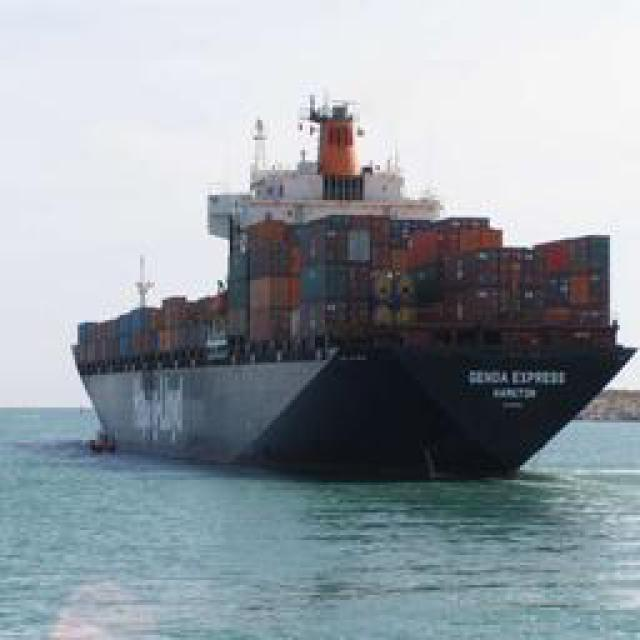Ship: (63, 71, 618, 484)
